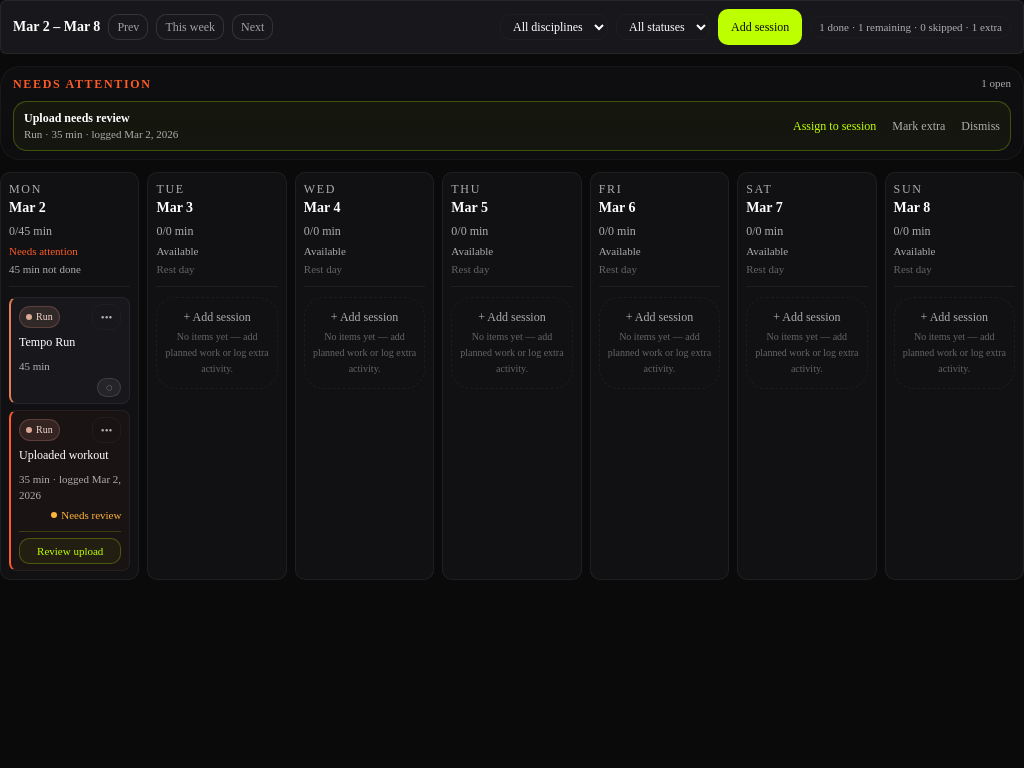
Test: WeekCalendar › persists dismissed needs-attention items across refreshes
What coordinates should you click on to do the following:
click the button "Dismiss"
I would click on:
 (981, 126)
Its box is x1=961 y1=118 x2=1000 y2=134.
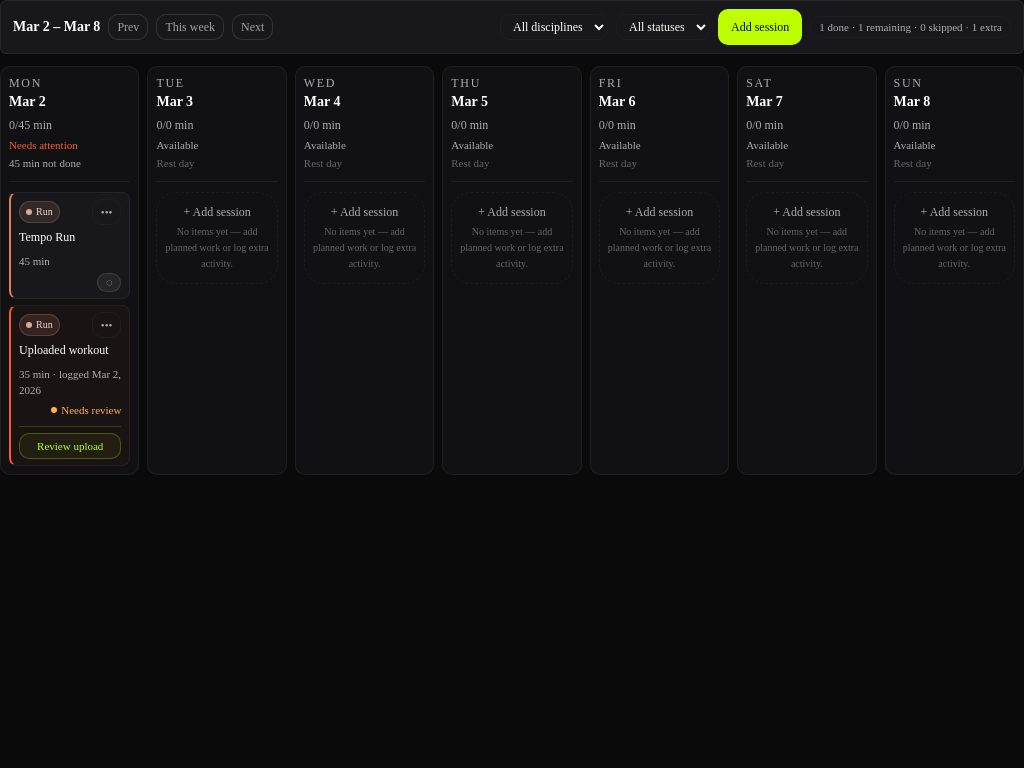
Result: the text "Upload needs review" is gone
